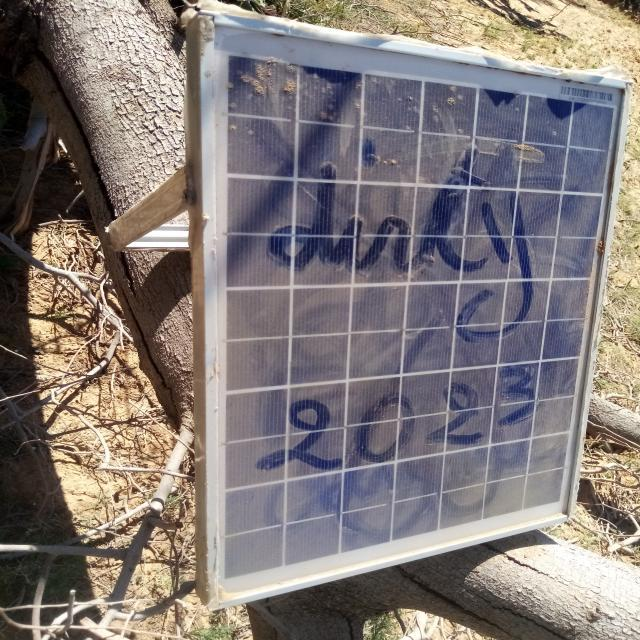faulty: (213, 17, 626, 606)
